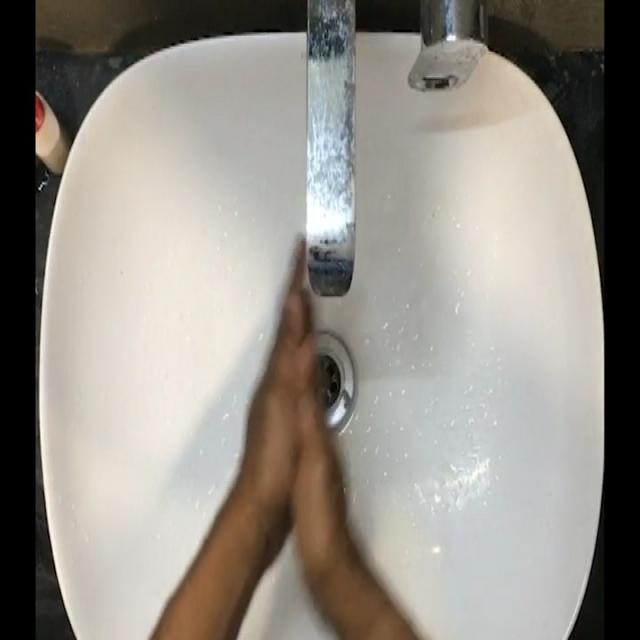step_1: (232, 210, 349, 530)
